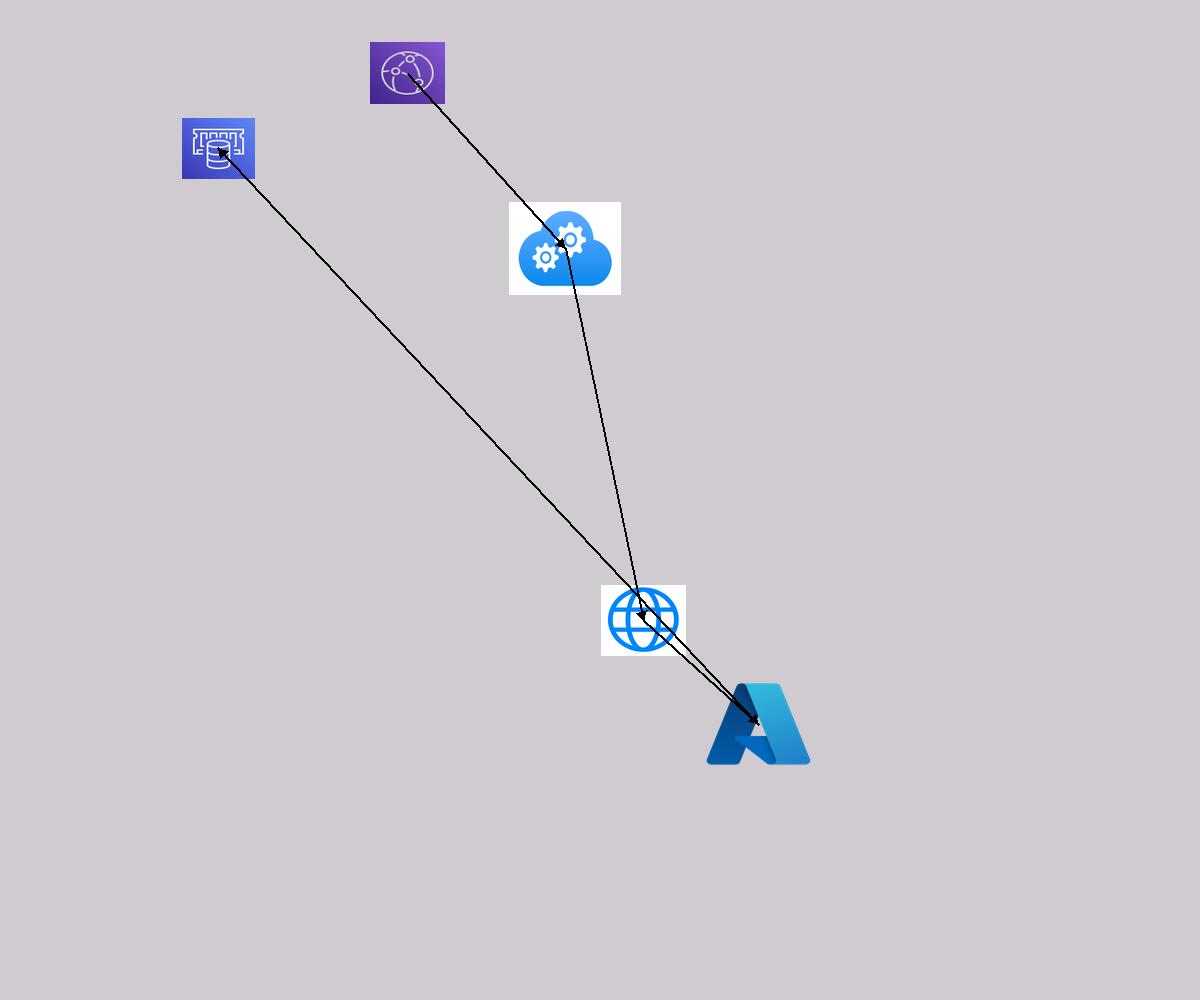AWS-CloudFront: (370, 42, 445, 104)
AWS-ElastiCache: (182, 118, 255, 179)
Azure_cloud_services: (509, 202, 621, 295)
Azure_http: (601, 585, 686, 656)
Azure_services: (702, 677, 815, 771)
